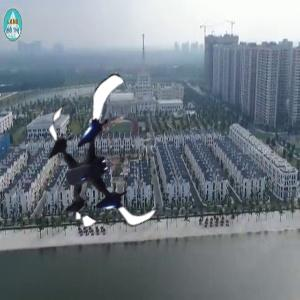drone: (27, 93, 177, 243)
